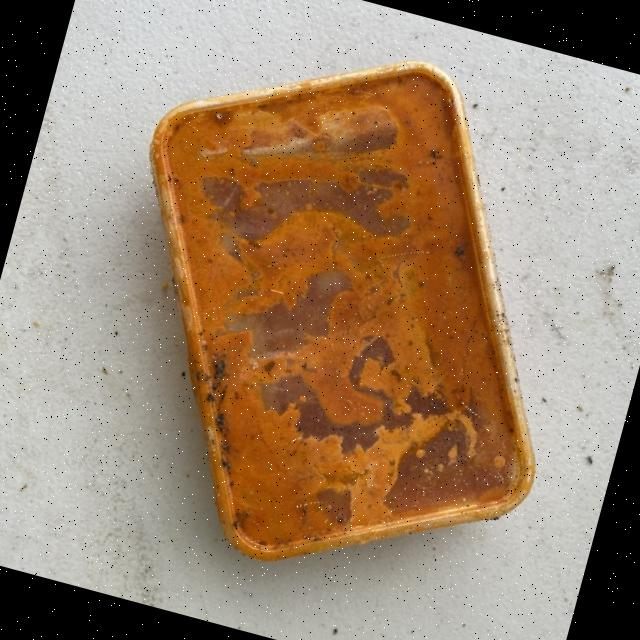plastic: (51, 0, 630, 623)
